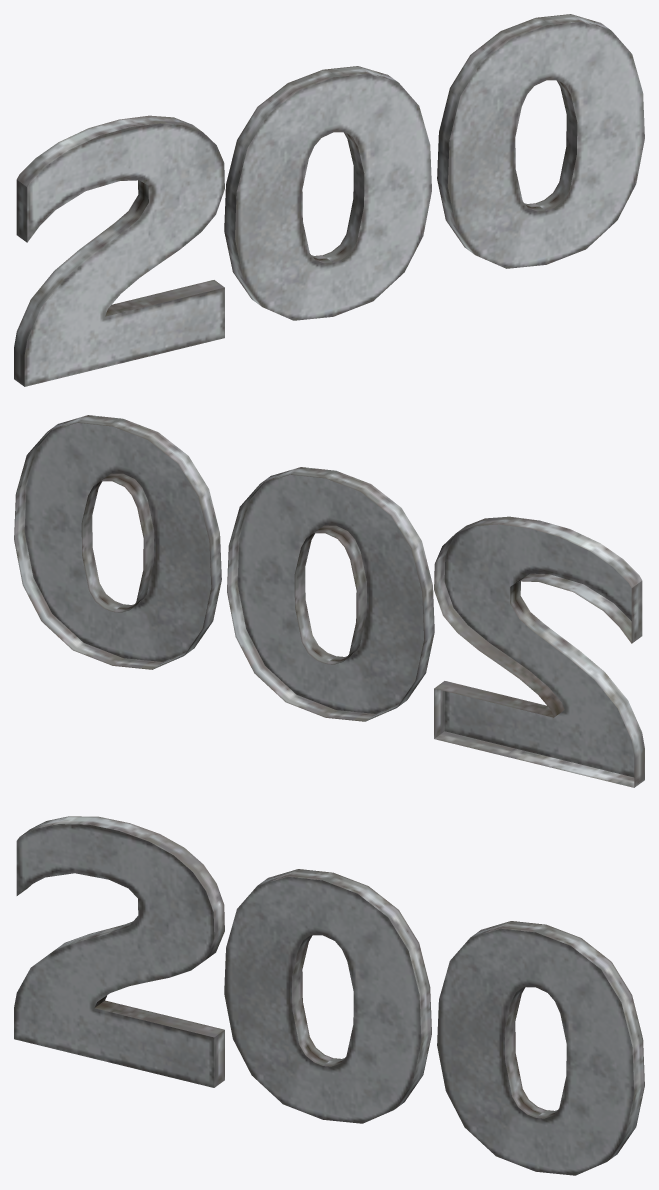
File: categorySign200.FBX
The picture shows the model from 3 angles, top to bottom: view 1: azimuth 30°, elevation 25°; view 2: azimuth 150°, elevation 25°; view 3: azimuth 330°, elevation 25°; orthographic projection.
Visible parts, largest first — view 1: SM_CategorySign200; view 2: SM_CategorySign200; view 3: SM_CategorySign200.
Boxes of the visible parts, x1,y1,x2,y2 form: SM_CategorySign200: [14, 14, 644, 386]; SM_CategorySign200: [14, 415, 644, 787]; SM_CategorySign200: [14, 816, 644, 1175].
Bounding box in the file's own units: 6.74 × 2.48 × 0.2.
1 material, 1 textured.
